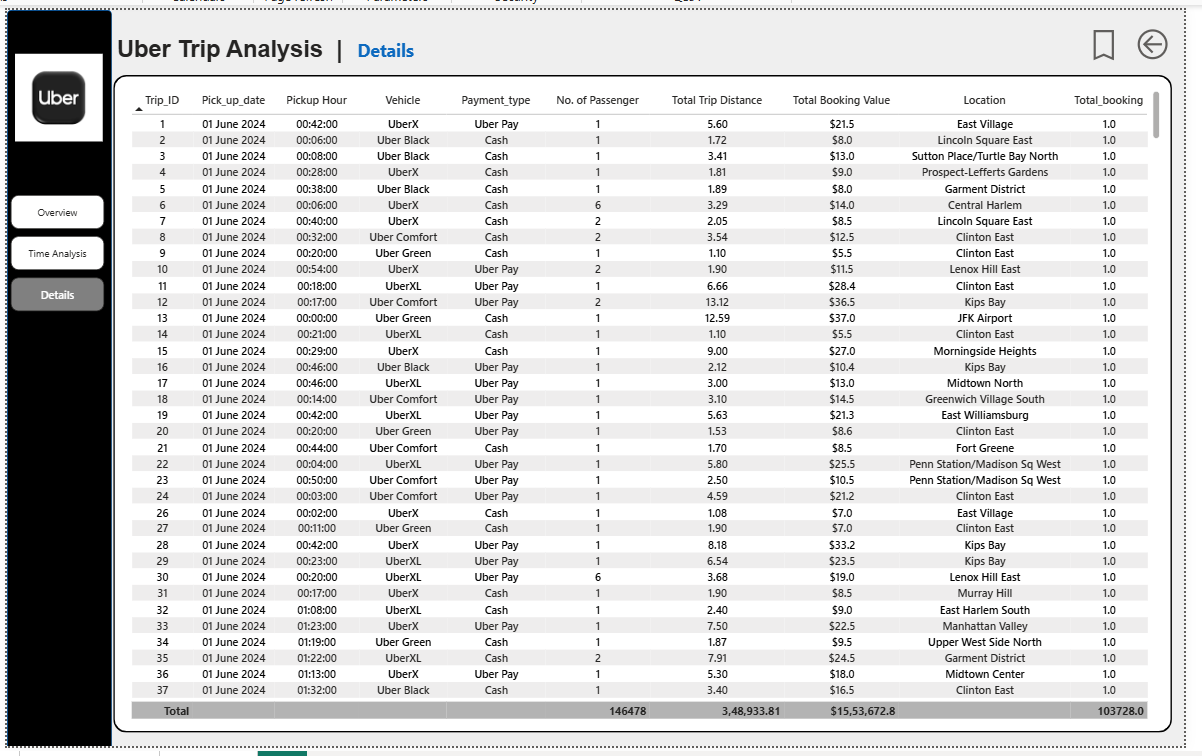

The page's visual inventory and layout, read from the dashboard file:
{"tool":"powerbi","page":{"name":"Details ","canvas":[1600,1000],"ordinal":2},"visuals":[{"type":"shape","box":[0,0,142.5,1600],"z":0},{"type":"textbox","box":[144.4,30.6,601.2,57.7],"z":1000},{"type":"shape","box":[144.4,88.3,1438.5,893.3],"z":2000},{"type":"tableEx","fields":{"Values":["Uber_Trip_Details.Trip_ID","Uber_Trip_Details.Pick_up_date","Uber_Trip_Details.Pickup Hour (HH MM SS)","Uber_Trip_Details.Vehicle","Uber_Trip_Details.Payment_type","Sum(Uber_Trip_Details.passenger_count)","Uber_Trip_Details.Total Trip Distance Measure","Uber_Trip_Details.Total Booking Value","Location_Table.Location","Uber_Trip_Details.Total_booking"]},"box":[163,105.3,1408,862.8],"z":3000},{"type":"actionButton","box":[1530.2,18.7,52.6,56],"z":4000},{"type":"actionButton","box":[1464,8.5,52.6,78.1],"z":4001},{"type":"image","box":[8.5,59.4,124,118.9],"z":4003},{"type":"pageNavigator","box":[5.1,251.4,127.4,159.6],"z":4004}]}

Visuals, with their boxes in screenshot pixels (x1, y1, x2, y2):
shape: 3 6 109 755
textbox: 110 29 556 72
shape: 110 72 1176 733
tableEx - Uber_Trip_Details.Trip_ID x Uber_Trip_Details.Pick_up_date: 124 84 1167 723
actionButton: 1137 20 1176 62
actionButton: 1088 13 1127 70
image: 9 50 101 138
pageNavigator: 7 193 101 311
